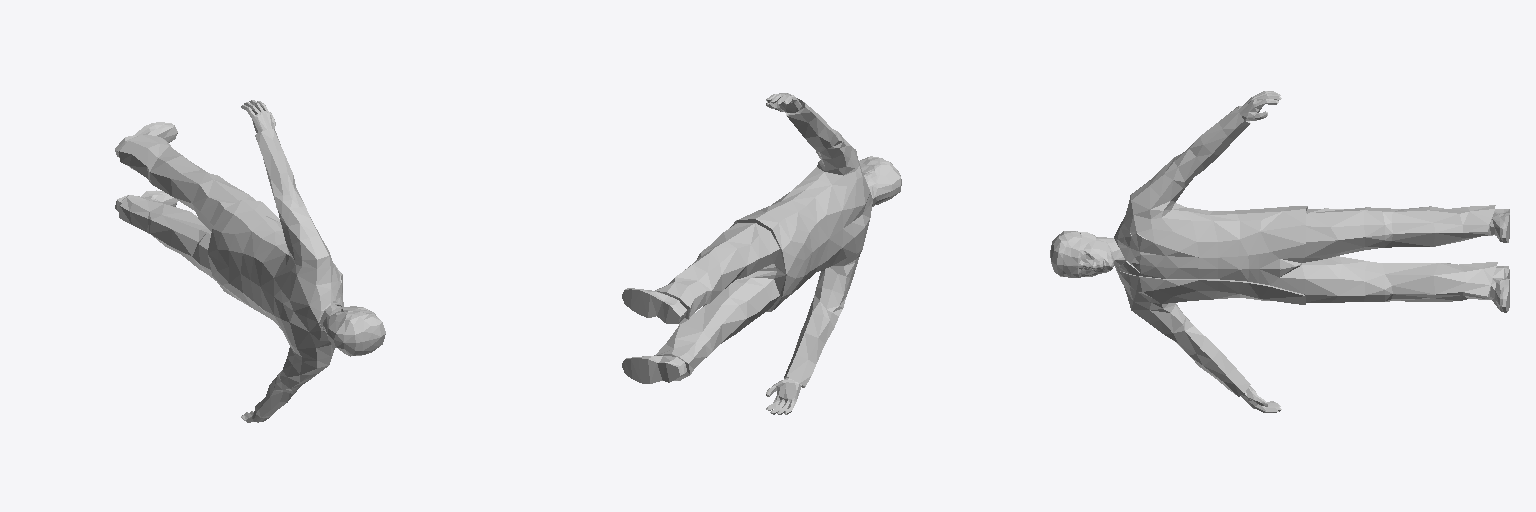
File: Man.obj
3 views of the same model, side by side, from view 1: azimuth 30°, elevation 25°; view 2: azimuth 150°, elevation 25°; view 3: azimuth 270°, elevation 25° (orthographic).
Visible parts, largest first — view 1: Man_Untitled; view 2: Man_Untitled; view 3: Man_Untitled.
Boxes of the visible parts, x1=… form: Man_Untitled: x1=115, y1=100, x2=385, y2=422; Man_Untitled: x1=622, y1=93, x2=901, y2=414; Man_Untitled: x1=1050, y1=91, x2=1509, y2=412.
Bounding box in the file's own units: 0.3085 × 1.39 × 1.83.